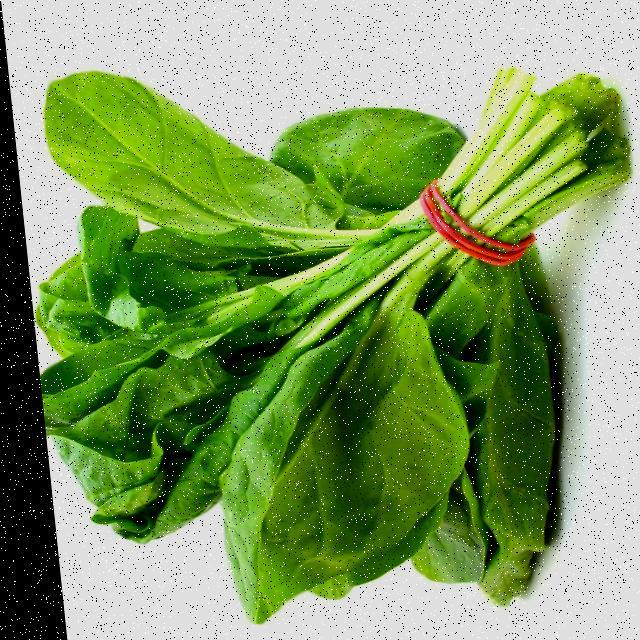Spinach: (5, 57, 640, 621)
